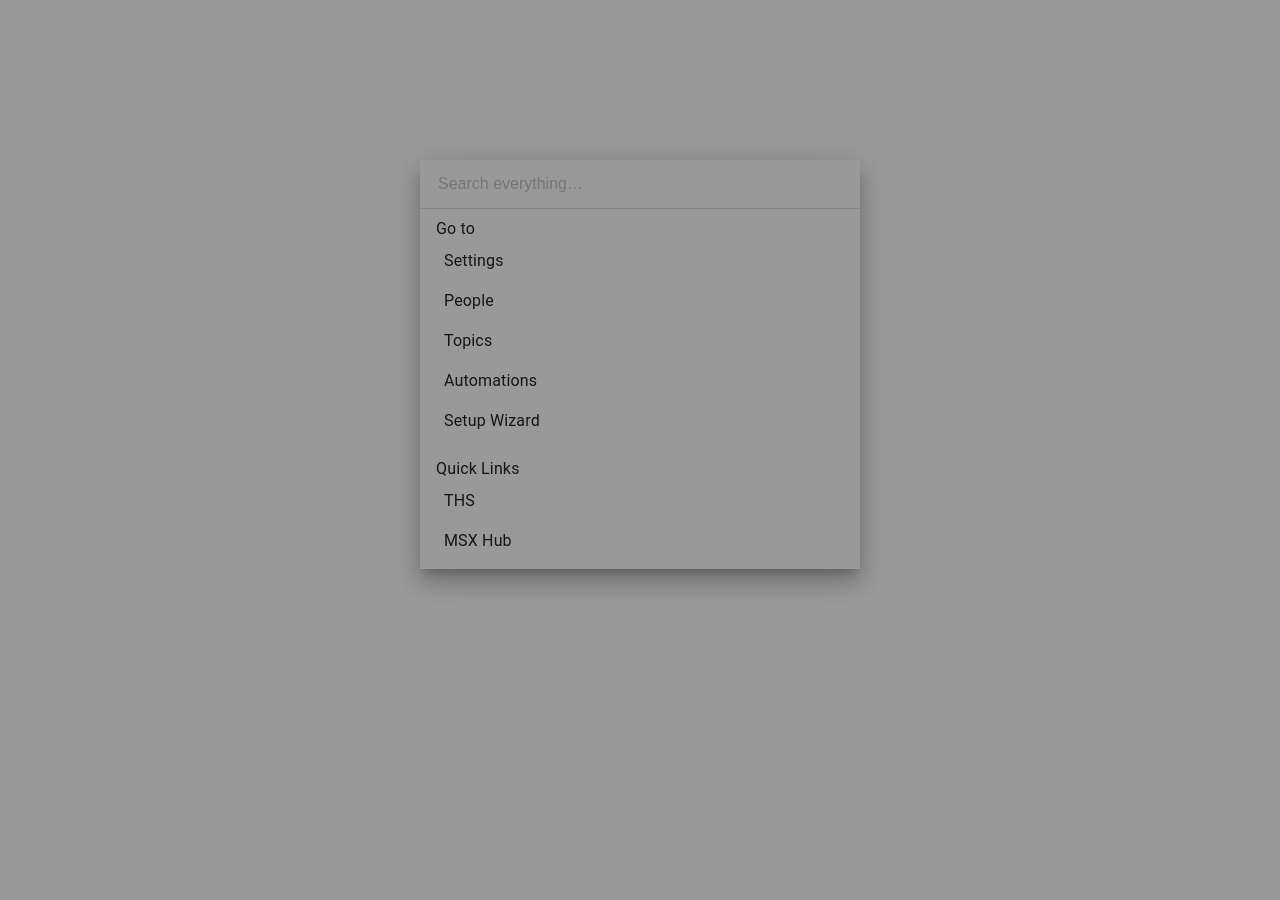
Test: CommandPalette › filters drawer entries and quick links by typed text
The width and height of the screenshot is (1280, 900).
Step 1. Type "th" into the field with placeholder "Search everything…" → {"x": 640, "y": 184}, box [436, 174, 844, 194]
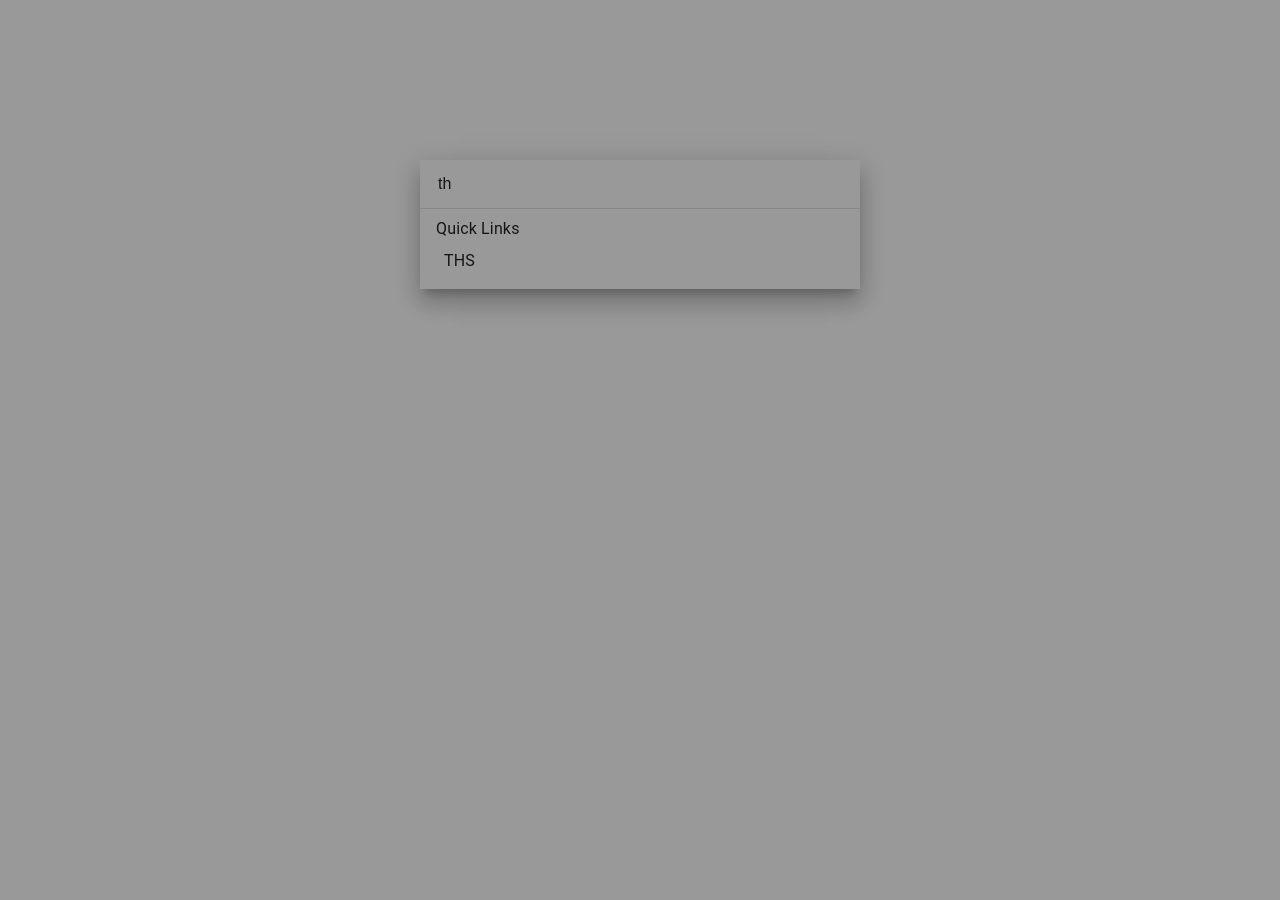
Expected: the option "THS" is shown, [444, 251, 475, 270]
Expected: the option "Settings" is gone
Expected: the option "MSX Hub" is gone
